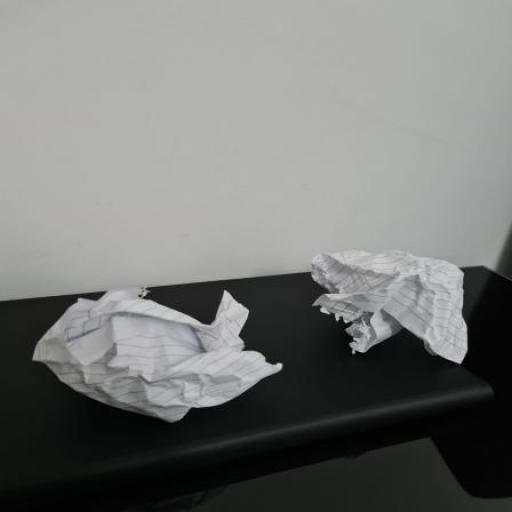paper: (29, 277, 289, 445), (284, 230, 487, 386)
